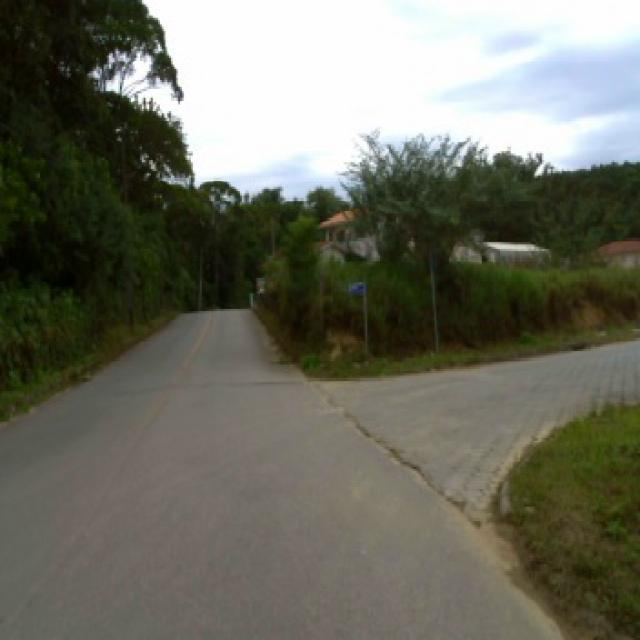Poth-hole: (311, 384, 482, 532), (116, 380, 298, 391), (568, 340, 586, 351)
